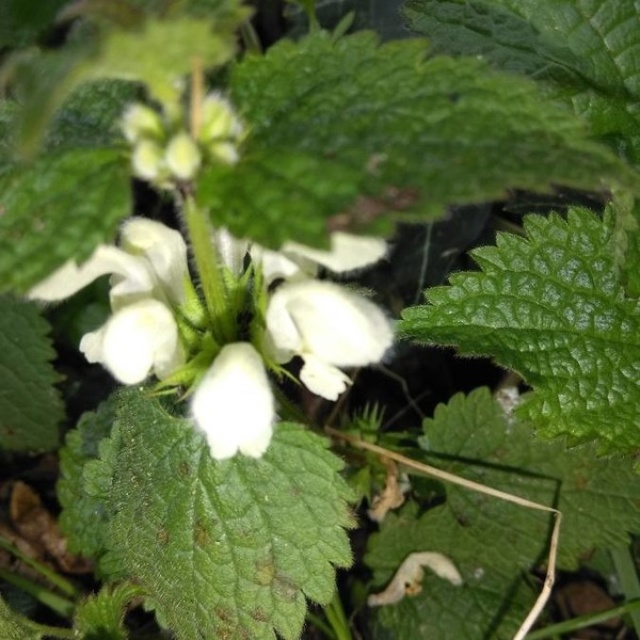obstacle: (49, 66, 560, 602)
